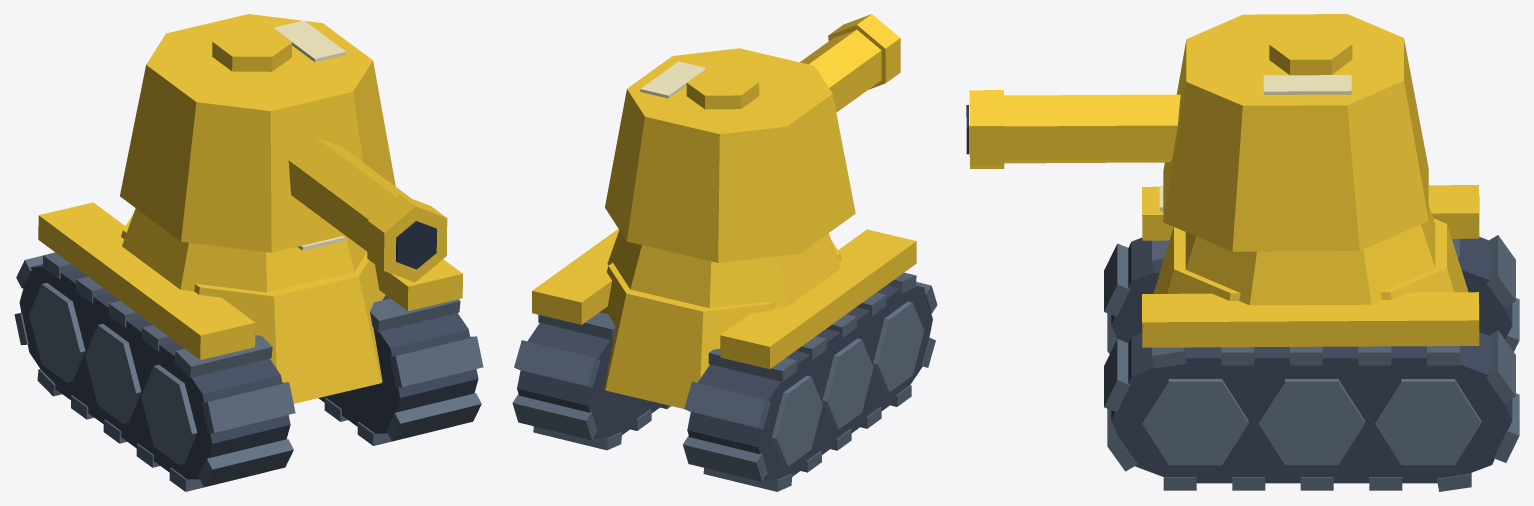
The model's file is tank_04_saffron_sprinter.glb.
3 views of the same model, side by side, from view 1: azimuth 30°, elevation 25°; view 2: azimuth 150°, elevation 25°; view 3: azimuth 270°, elevation 25° (orthographic). The views are drawn at different scales.
Parts seen in each view (by area): view 1: 04 | Faceted turret.001, 04 | Lower hull.001, 04 | Track belt.001, 04 | Track guard.001, 04 | Upper deck.001, 04 | Track belt.002, 04 | Cannon tube.001, 04 | Muzzle rim.001, 04 | Road wheel.001, 04 | Road wheel.003, 04 | Road wheel.002, 04 | Commander hatch.001 (+10 smaller); view 2: 04 | Faceted turret.001, 04 | Lower hull.001, 04 | Track belt.001, 04 | Upper deck.001, 04 | Track guard.001, 04 | Track belt.002, 04 | Track guard.002, 04 | Cannon tube.001, 04 | Road wheel.002, 04 | Road wheel.001, 04 | Road wheel.003, 04 | Commander hatch.001 (+10 smaller); view 3: 04 | Faceted turret.001, 04 | Track belt.002, 04 | Track guard.002, 04 | Upper deck.001, 04 | Cannon tube.001, 04 | Road wheel.005, 04 | Road wheel.006, 04 | Road wheel.004, 04 | Track belt.001, 04 | Lower hull.001, 04 | Track guard.001, 04 | Commander hatch.001 (+13 smaller).
Part boxes in pixels (bbox=[...]): 04 | Faceted turret.001: bbox=[120, 14, 395, 252]; 04 | Lower hull.001: bbox=[121, 213, 385, 403]; 04 | Track belt.001: bbox=[19, 264, 290, 479]; 04 | Track guard.001: bbox=[38, 202, 255, 359]; 04 | Upper deck.001: bbox=[122, 208, 366, 292]; 04 | Track belt.002: bbox=[318, 295, 478, 433]; 04 | Cannon tube.001: bbox=[288, 136, 411, 251]; 04 | Muzzle rim.001: bbox=[367, 194, 447, 282]; 04 | Road wheel.001: bbox=[141, 364, 197, 464]; 04 | Road wheel.003: bbox=[29, 283, 85, 382]; 04 | Road wheel.002: bbox=[85, 324, 141, 423]; 04 | Commander hatch.001: bbox=[212, 27, 292, 71]; 04 | Faceted turret.001: bbox=[605, 48, 855, 262]; 04 | Lower hull.001: bbox=[601, 240, 841, 408]; 04 | Track belt.001: bbox=[687, 285, 932, 479]; 04 | Upper deck.001: bbox=[607, 230, 840, 308]; 04 | Track guard.001: bbox=[720, 229, 916, 369]; 04 | Track belt.002: bbox=[517, 311, 663, 437]; 04 | Track guard.002: bbox=[532, 228, 619, 324]; 04 | Cannon tube.001: bbox=[800, 29, 881, 112]; 04 | Road wheel.002: bbox=[822, 338, 873, 429]; 04 | Road wheel.001: bbox=[873, 301, 924, 392]; 04 | Road wheel.003: bbox=[771, 375, 822, 466]; 04 | Commander hatch.001: bbox=[686, 69, 759, 109]; 04 | Faceted turret.001: bbox=[1163, 14, 1428, 251]; 04 | Track belt.002: bbox=[1111, 332, 1512, 483]; 04 | Track guard.002: bbox=[1142, 292, 1479, 347]; 04 | Upper deck.001: bbox=[1185, 206, 1435, 305]; 04 | Cannon tube.001: bbox=[1004, 94, 1180, 163]; 04 | Road wheel.005: bbox=[1258, 379, 1364, 465]; 04 | Road wheel.006: bbox=[1375, 379, 1481, 465]; 04 | Road wheel.004: bbox=[1142, 379, 1248, 465]; 04 | Track belt.001: bbox=[1111, 237, 1512, 342]; 04 | Lower hull.001: bbox=[1153, 218, 1468, 300]; 04 | Track guard.001: bbox=[1142, 185, 1479, 240]; 04 | Commander hatch.001: bbox=[1269, 28, 1352, 75].
Bounding box in the file's own units: 1.06 × 1.34 × 1.76.
